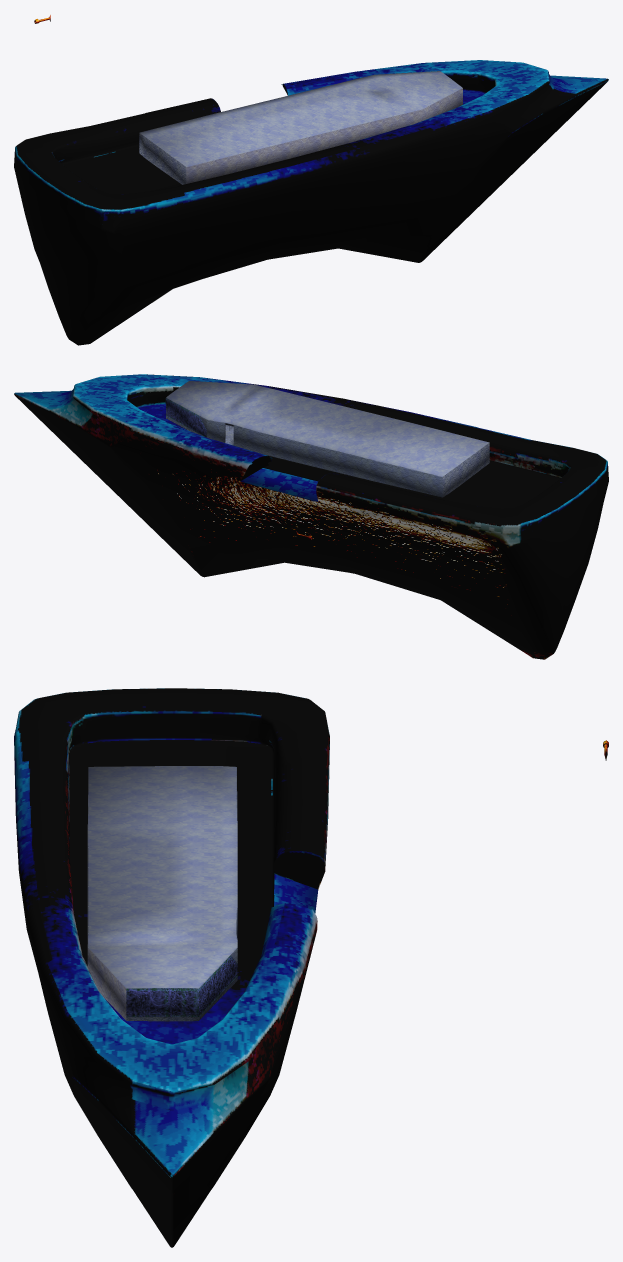
The model's file is ship.glb.
The picture shows the model from 3 angles, top to bottom: view 1: azimuth 30°, elevation 25°; view 2: azimuth 150°, elevation 25°; view 3: azimuth 270°, elevation 25°; orthographic projection. The views are drawn at different scales.
Parts seen in each view (by area): view 1: Cube.010, Cube.011; view 2: Cube.010, Cube.011, Cube.012; view 3: Cube.010, Cube.011, Cube.012.
Boxes of the visible parts, x1,y1,x2,y2 form: Cube.010: (14, 60, 608, 345); Cube.011: (139, 71, 462, 184); Cube.010: (14, 374, 608, 659); Cube.011: (166, 381, 489, 497); Cube.012: (165, 398, 206, 437); Cube.010: (14, 688, 329, 1247); Cube.011: (87, 766, 237, 1021); Cube.012: (126, 955, 237, 1017).
Size of the model in its own units: 347 by 120 by 202.
5 materials, 5 textured.
